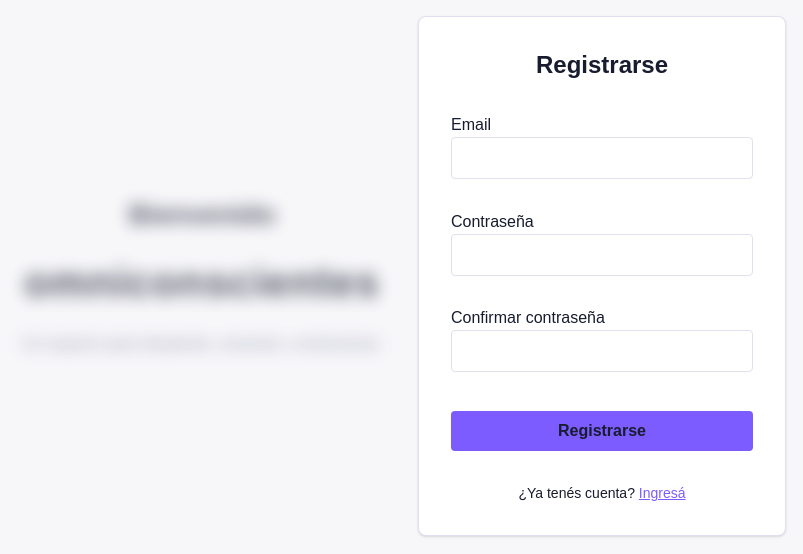
Test: AuthForm › Register Form › should validate password match
The image size is (803, 554).
Type "test@example.com" into the field with test id "email-input" at (602, 158), box [451, 137, 753, 179]
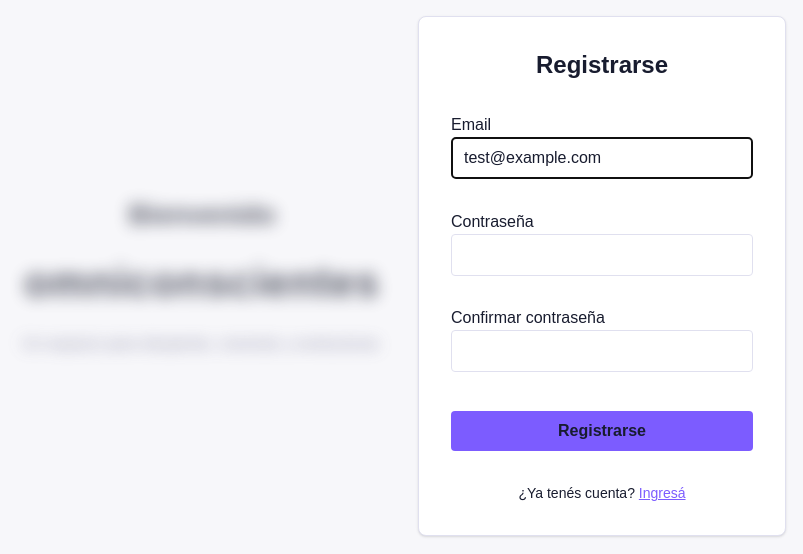
Type "password123" into the password field with test id "password-input" at (602, 255), box [451, 234, 753, 276]
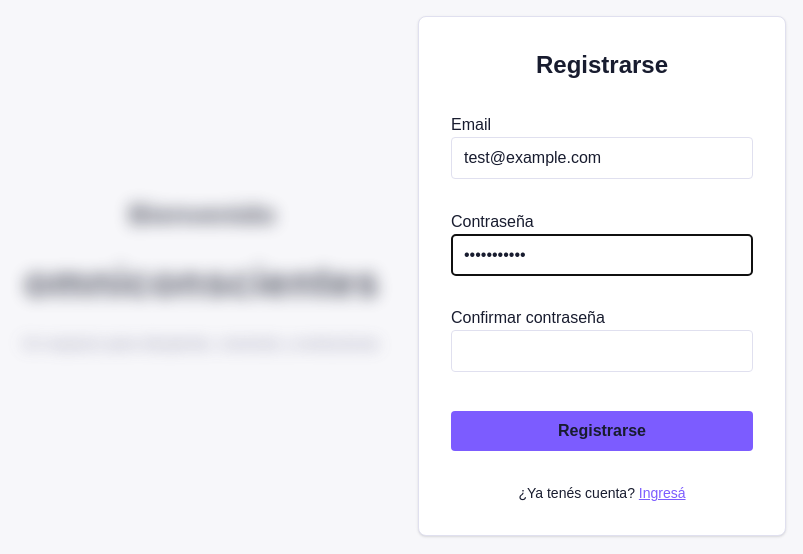
Type "password456" into the password field with test id "confirm-password-input" at (602, 351), box [451, 330, 753, 372]
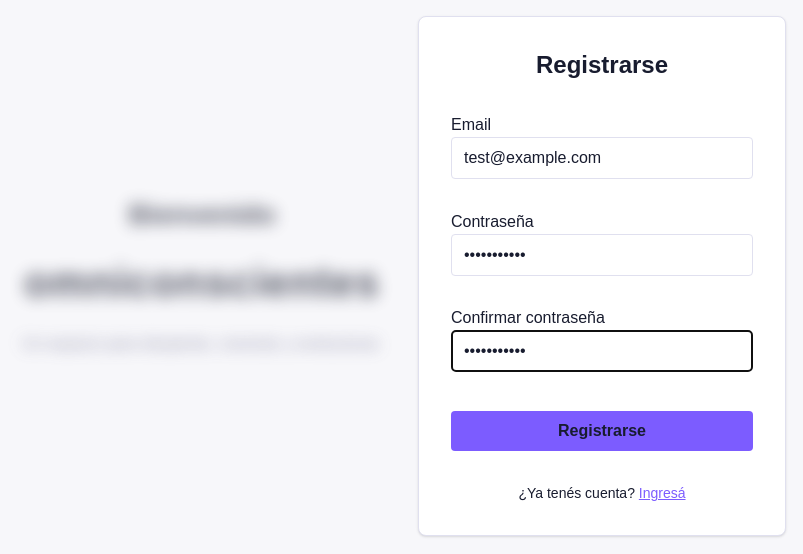
Click the button with test id "submit-button" at (602, 431), box [451, 411, 753, 451]
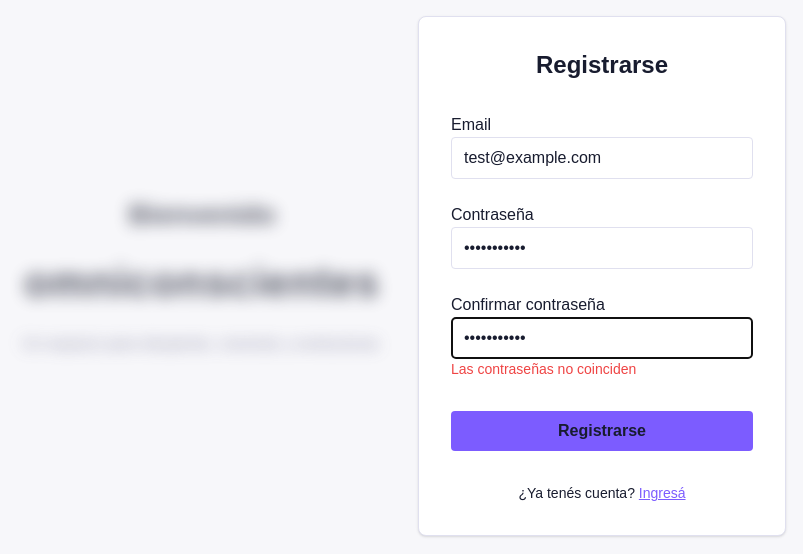
Expected: the text with test id "error-confirm" reads "Las contraseñas no coinciden", [451, 361, 636, 377]
